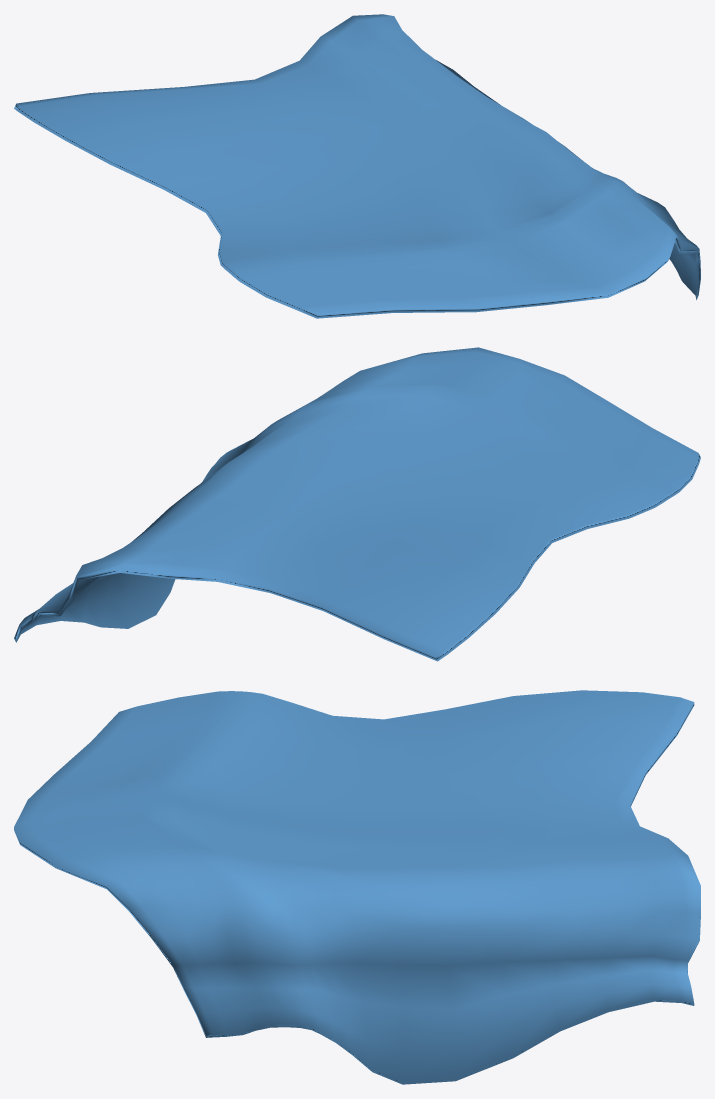
Rendered from OM_Blanket.fbx.
3 views of the same model, one above another, from view 1: azimuth 30°, elevation 25°; view 2: azimuth 150°, elevation 25°; view 3: azimuth 270°, elevation 25° (orthographic). The views are drawn at different scales.
Parts seen in each view (by area): view 1: dishTowel; view 2: dishTowel; view 3: dishTowel.
Part boxes in pixels (x1,y1,x2,y2): dishTowel: (14,14,700,318); dishTowel: (14,347,700,661); dishTowel: (14,690,700,1084).
Bounding box in the file's own units: 46.66 × 17.99 × 60.26.
